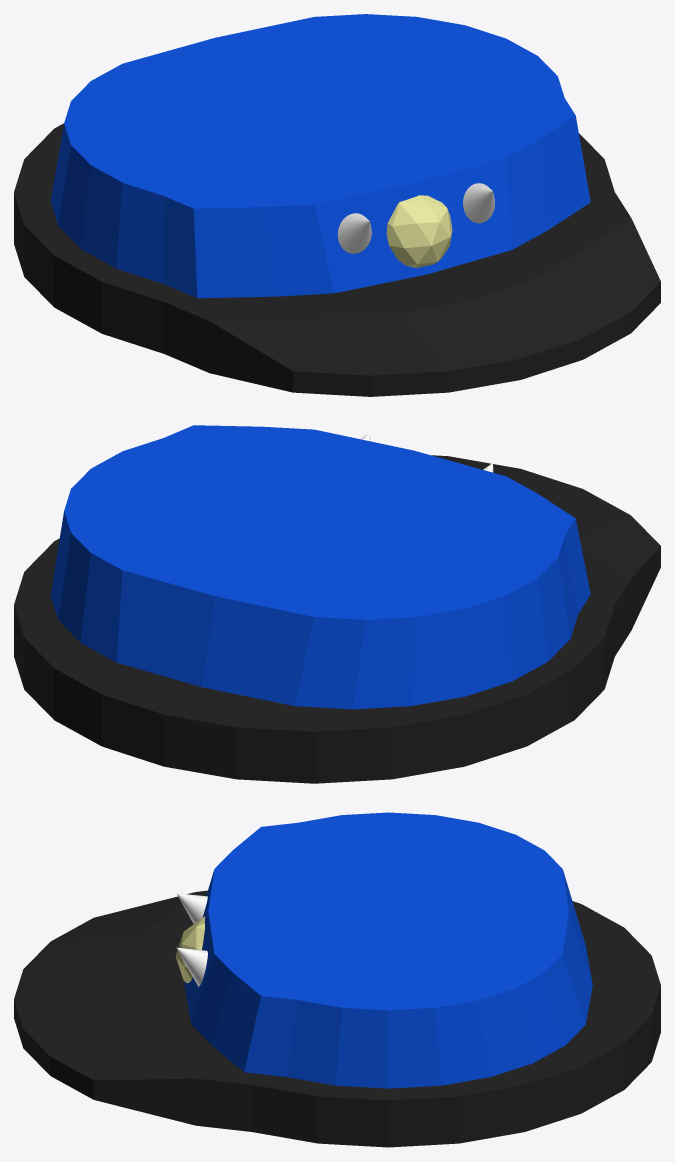
File: GuardHat.fbx
3 renders of one model, top to bottom at view 1: azimuth 30°, elevation 25°; view 2: azimuth 150°, elevation 25°; view 3: azimuth 270°, elevation 25°, orthographic. The views are drawn at different scales.
Parts seen in each view (by area): view 1: GuardHat; view 2: GuardHat; view 3: GuardHat.
Boxes of the visible parts, x1,y1,x2,y2 form: GuardHat: (14,14,660,396); GuardHat: (14,425,660,783); GuardHat: (14,812,660,1147).
Size of the model in its own units: 200 by 49.01 by 238.
